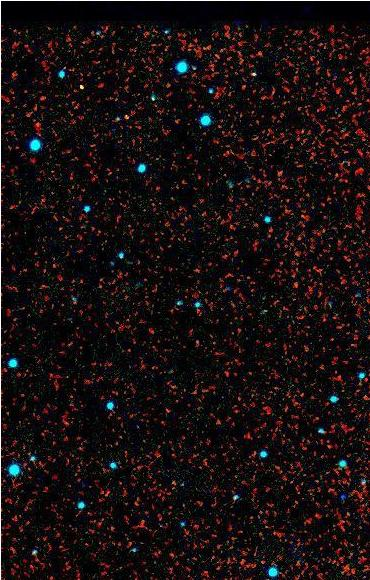star: (67, 72, 97, 102)
